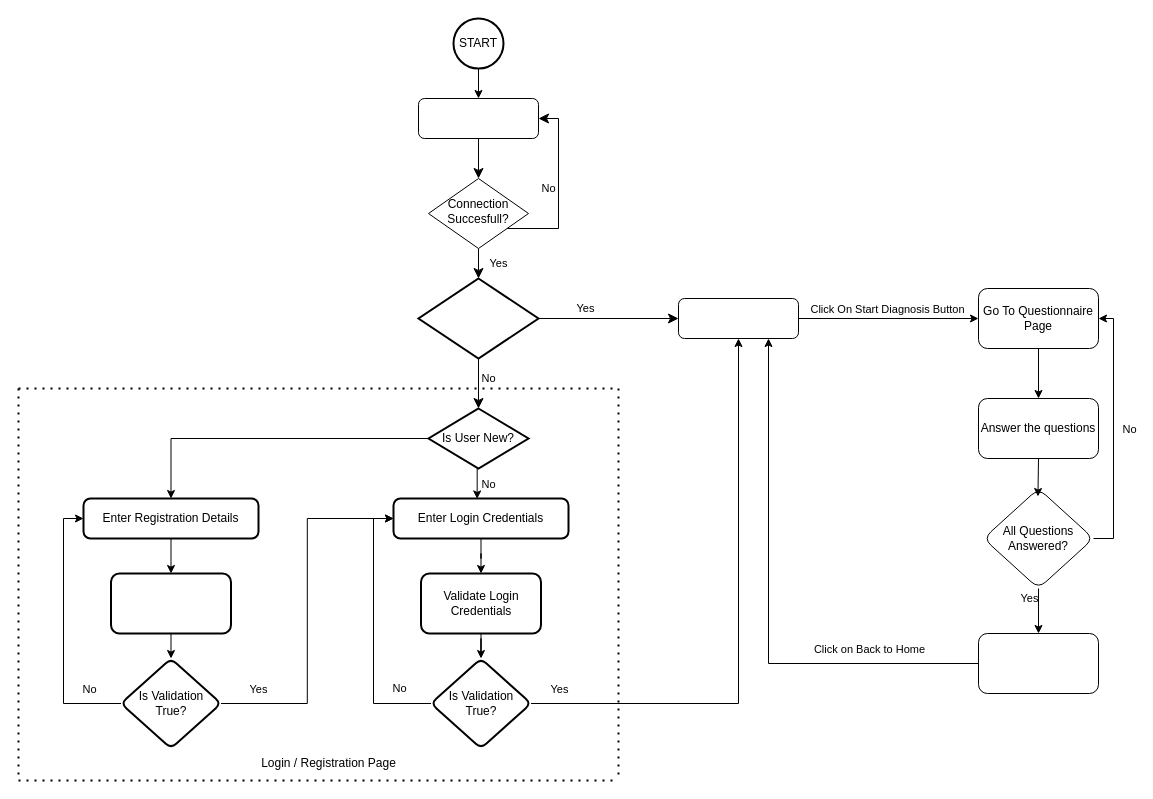
Some shapes in this 1153 by 799 pixel diagram are drawn without their labels. The shapes that lost their labels are listed below. From the top down, each one's centre as x and y in pixels, then its label:
the point at 478,118: Connect with Database Server
the point at 478,318: Is user Logged in?
the point at 738,318: Go To Home Page
the point at 171,603: Validate Registration Fields
the point at 1038,663: Go To Results Page and Observe the Diagnosis
